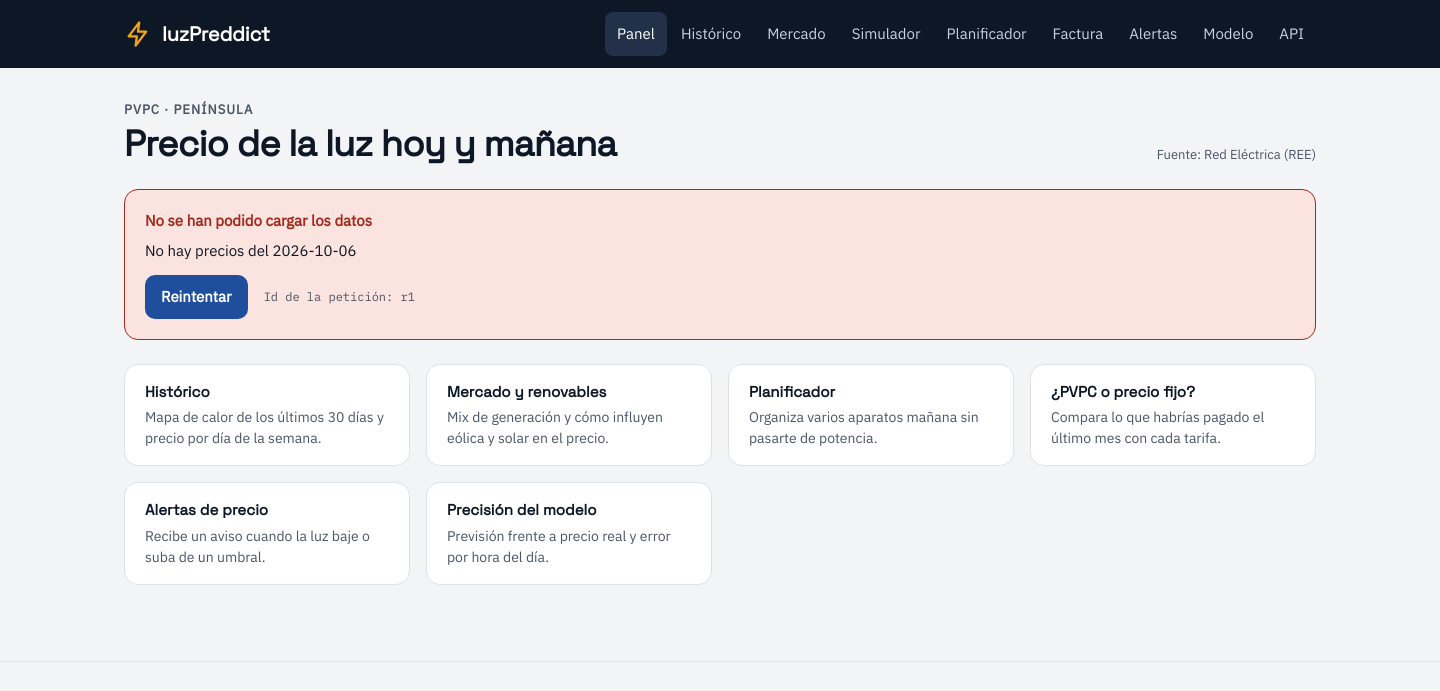
Test: Panel sin datos de mañana o con errores › si fallan los precios de hoy, explica el motivo y deja reintentar
The width and height of the screenshot is (1440, 691).
expect the message shows "No hay precios del 2026-10-06": met, box 145,241 -> 356,260
expect the message shows "Id de la petición: r1": met, box 124,189 -> 1316,340
Click the button "Reintentar": (196, 297) 145,275 -> 248,319
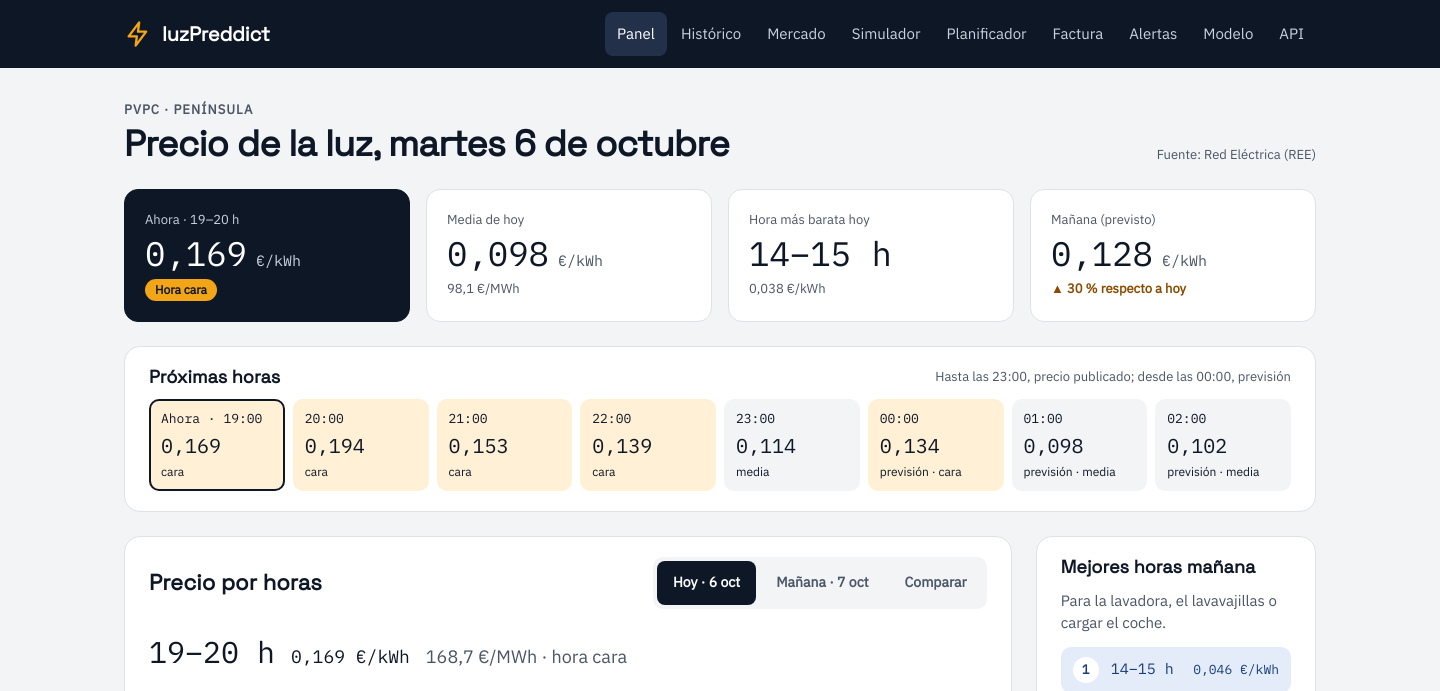
expect the element named "Resumen" is shown: met, box 124,189 -> 1316,322
expect the message is gone: met
